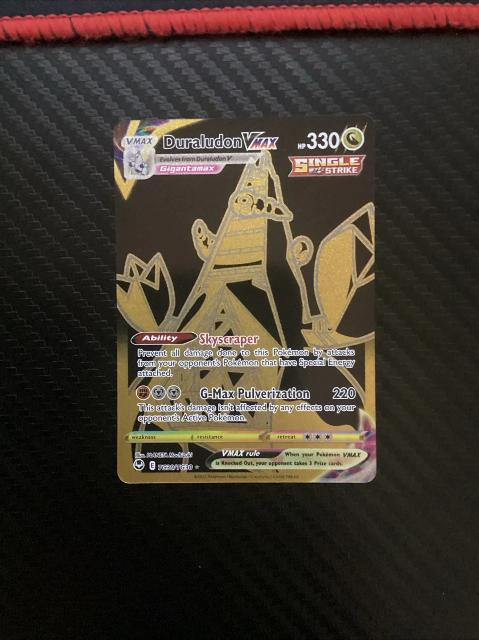Card: (109, 110, 383, 489)
Name: (159, 129, 285, 155)
